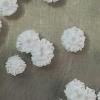white: (60, 26, 89, 55), (32, 39, 55, 68), (16, 29, 39, 54), (5, 55, 27, 80), (64, 78, 86, 100), (0, 0, 18, 17), (83, 84, 96, 100), (43, 0, 62, 6), (96, 90, 100, 100), (0, 18, 2, 34)
